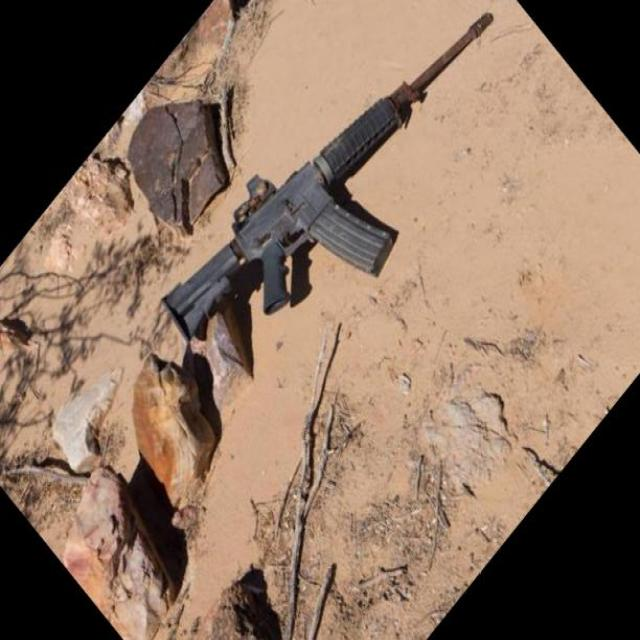heavy-weapon: (163, 10, 493, 342)
